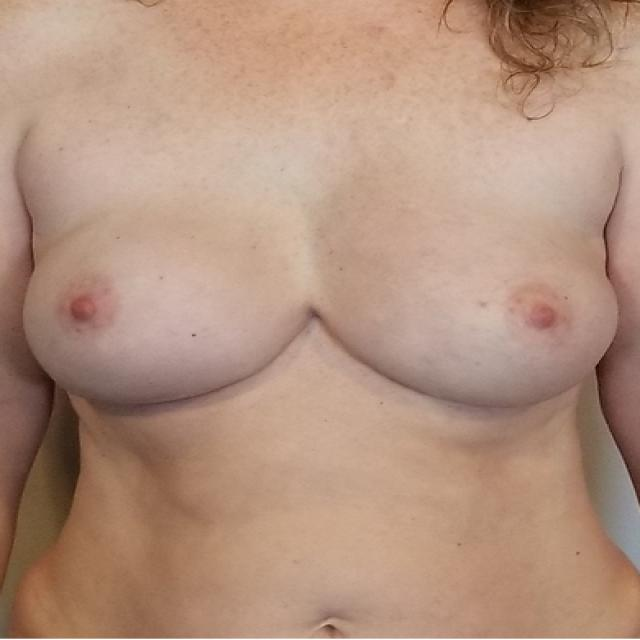Seno ileso: (10, 207, 314, 427), (322, 205, 626, 424)
